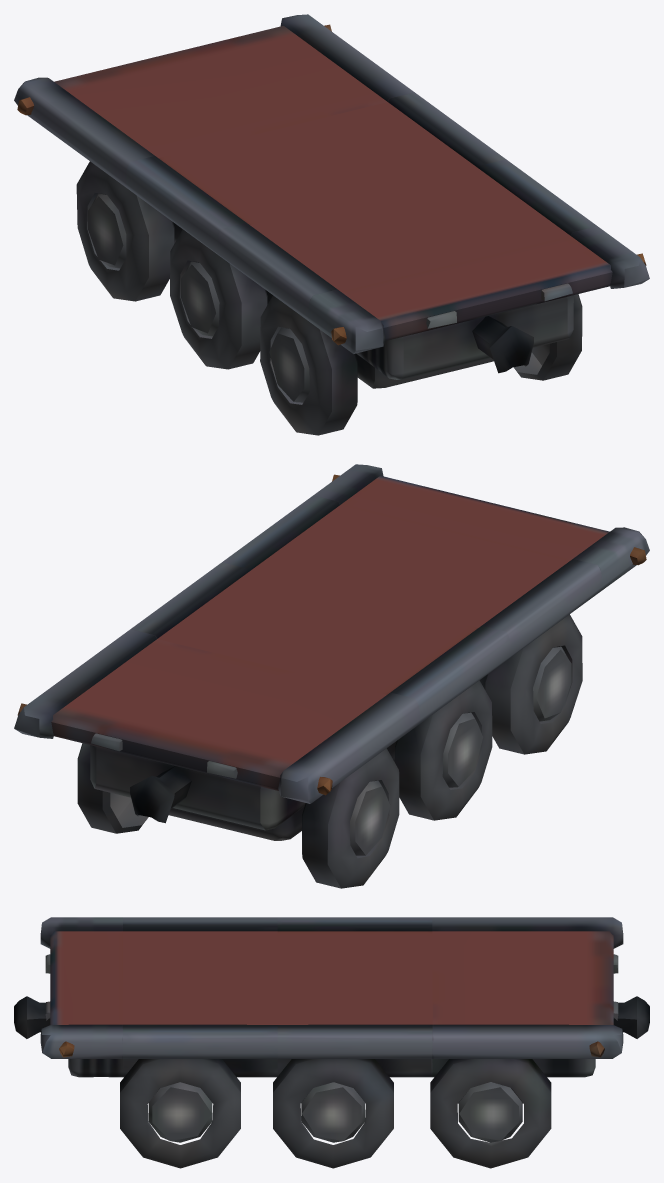
Rendered from SM_火车油罐底.glb.
3 views of the same model, one above another, from view 1: azimuth 30°, elevation 25°; view 2: azimuth 150°, elevation 25°; view 3: azimuth 270°, elevation 25° (orthographic). The views are drawn at different scales.
Parts seen in each view (by area): view 1: SM_火车油罐底; view 2: SM_火车油罐底; view 3: SM_火车油罐底.
Boxes of the visible parts, x1,y1,x2,y2 form: SM_火车油罐底: [14, 14, 649, 435]; SM_火车油罐底: [14, 464, 649, 888]; SM_火车油罐底: [14, 917, 649, 1168].
Bounding box in the file's own units: 1.41 × 0.713 × 2.92.
1 material, 1 textured.
